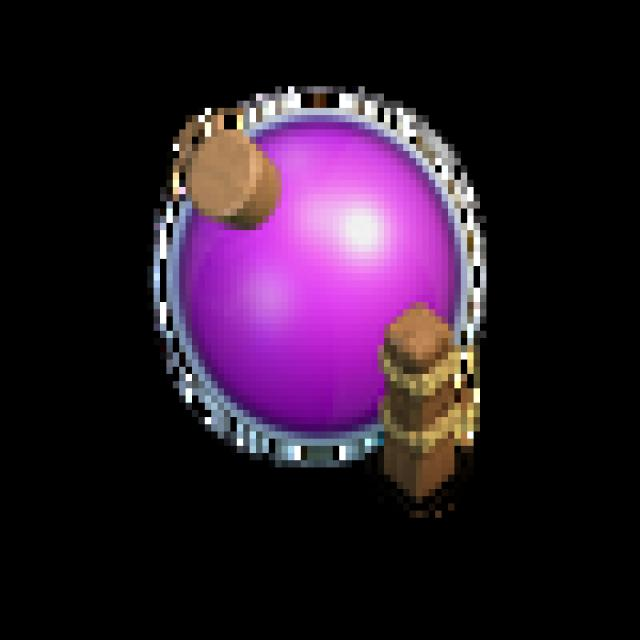elixir_storage: (149, 78, 530, 526)
